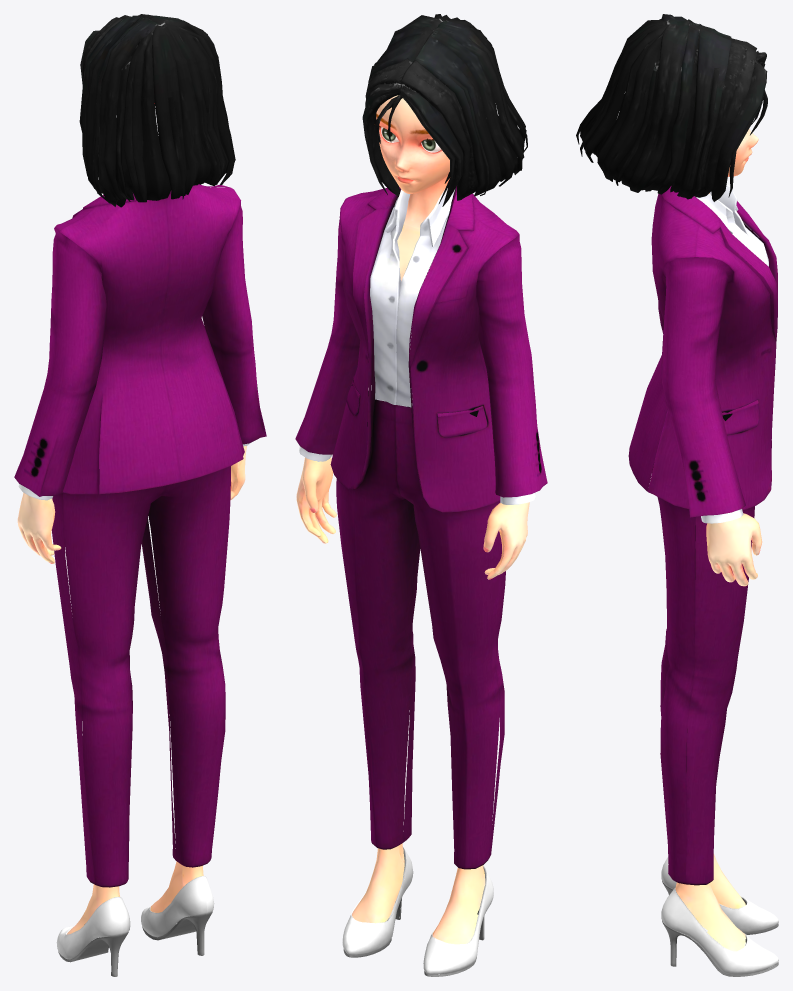
File: LowPolyNPC.glb
The picture shows the model from 3 angles, left to right: view 1: azimuth 30°, elevation 25°; view 2: azimuth 150°, elevation 25°; view 3: azimuth 270°, elevation 25°; orthographic projection. The views are drawn at different scales.
Parts seen in each view (by area): view 1: glb_character; view 2: glb_character; view 3: glb_character.
Boxes of the visible parts, x1=… form: glb_character: x1=14, y1=14, x2=266, y2=976; glb_character: x1=295, y1=14, x2=547, y2=976; glb_character: x1=576, y1=14, x2=778, y2=976.
Size of the model in its own units: 0.4694 by 1.74 by 0.3452.
Materials: 5 (5 with a texture image).
